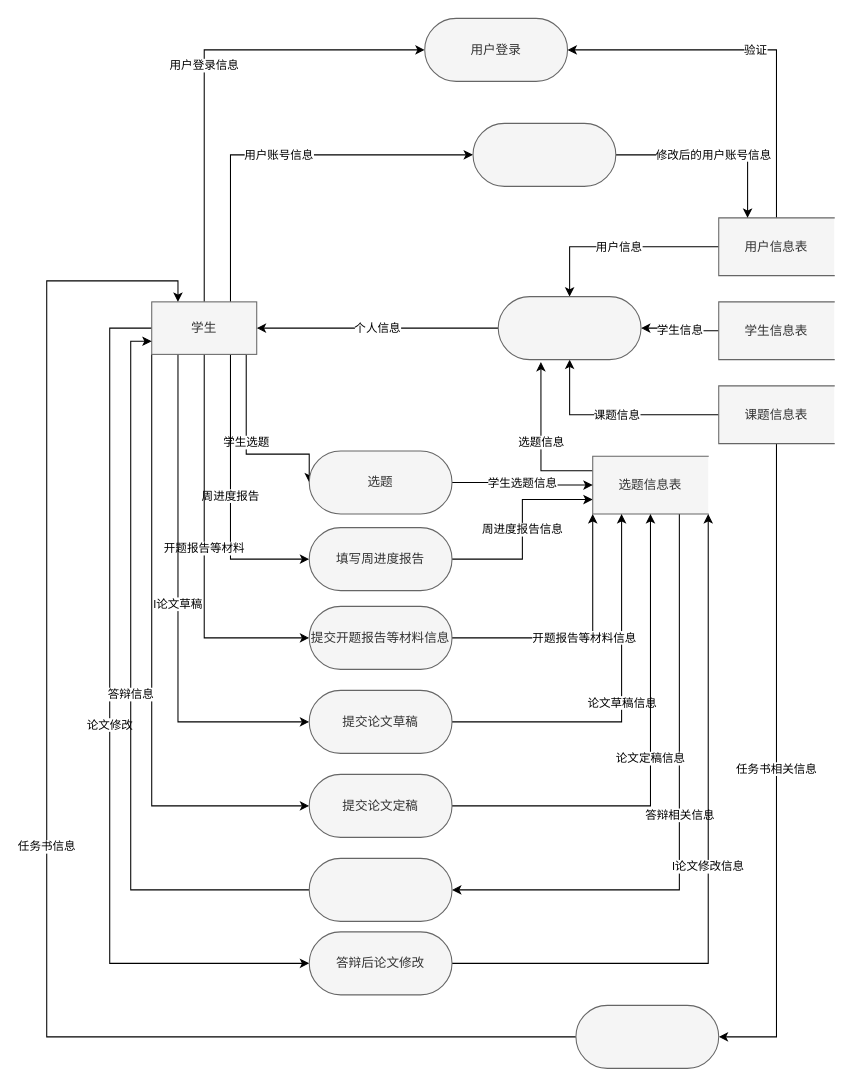
Some shapes in this 853 by 1087 pixel diagram are drawn without their labels. The box of each missing label's shape, as (x1, y1, x2, y2) in pixels:
查看个人信息: (497, 296, 641, 360)
查看任务书: (575, 1004, 719, 1068)
查看答辩信息: (308, 857, 452, 921)
账号管理: (472, 122, 616, 186)
